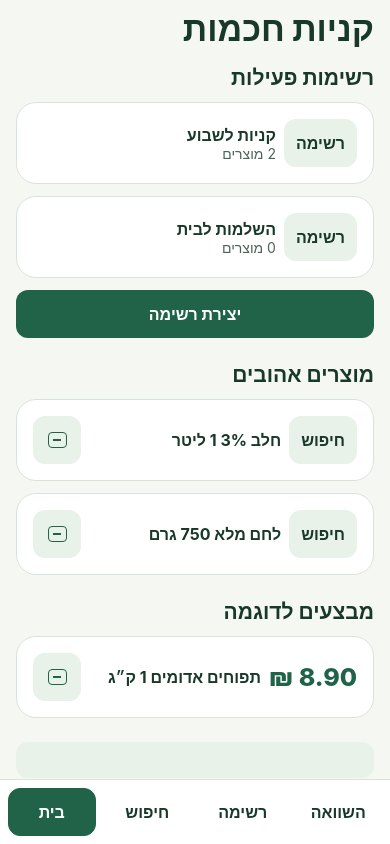
Scenario: browses categories and shows an empty search state
Click the tab "חיפוש".
click(147, 812)  # box [125,802,169,822]
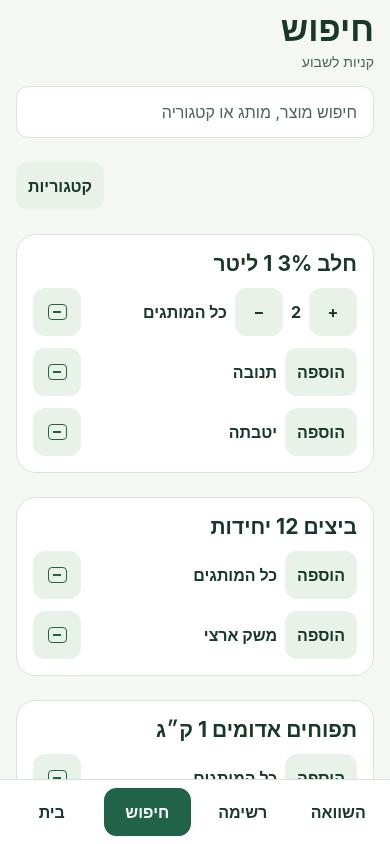
Click the button "קטגוריות".
click(60, 186)  # box [16,162,104,210]
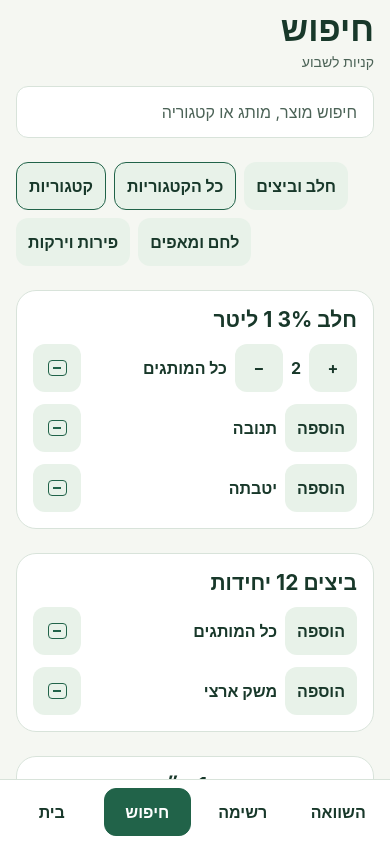
Click the button "פירות וירקות".
click(73, 242)  # box [16,218,130,266]
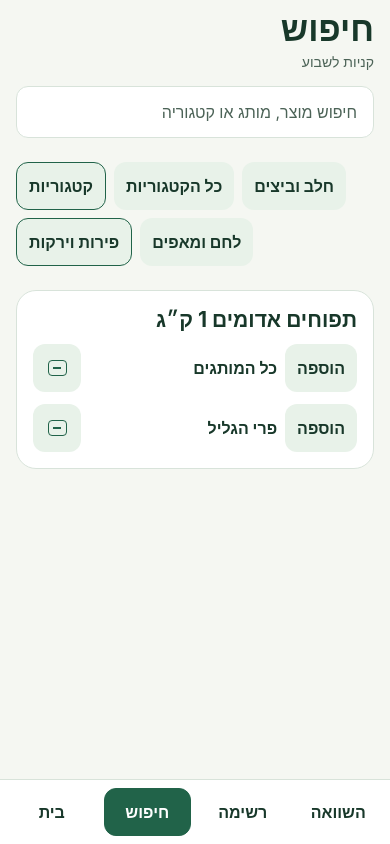
Expected: the heading "תפוחים אדומים 1 ק״ג" is shown, [156,307,357,332]
Now the heading "חלב 3% 1 ליטר" is gone
Type "אורז" into the field labelled "חיפוש מוצר, מותג או קטגוריה".
click(195, 112); type("אורז")  # box [16,86,374,138]
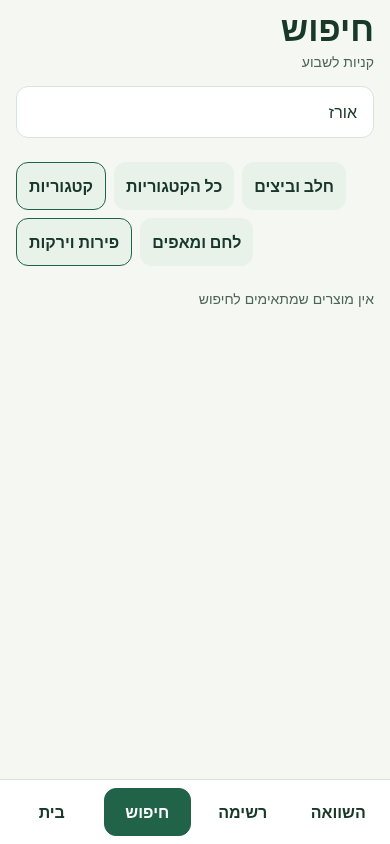
Now the text "אין מוצרים שמתאימים לחיפוש" is shown, box [199,290,374,307]
